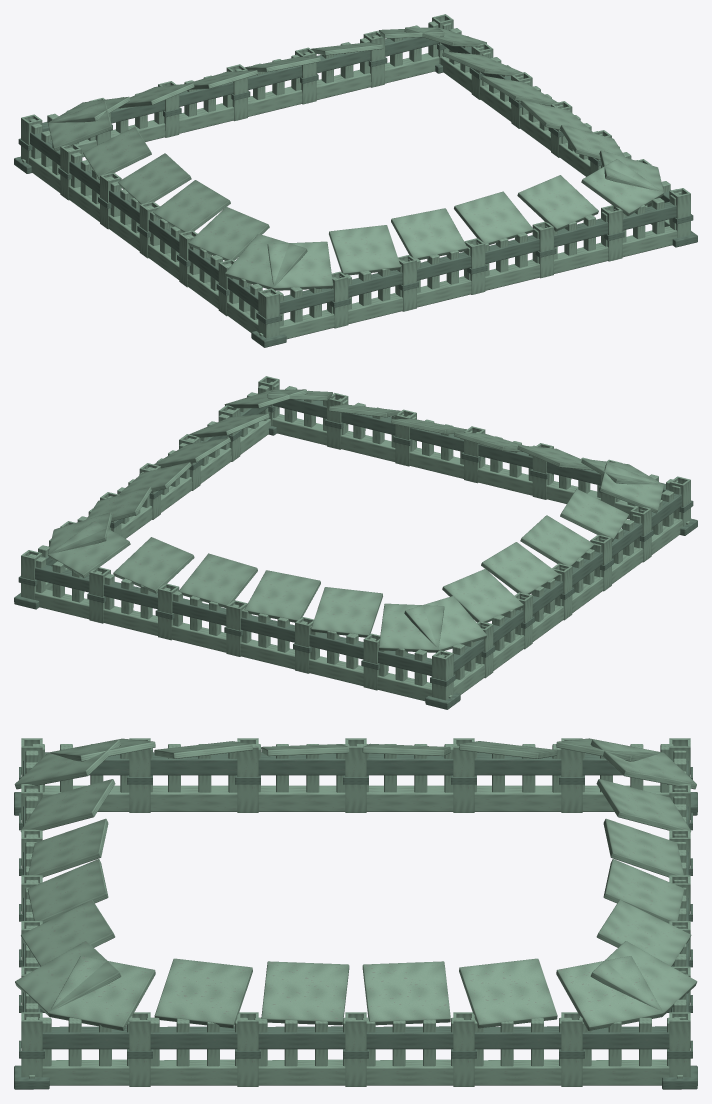
3 views of the same model, one above another, from view 1: azimuth 30°, elevation 25°; view 2: azimuth 150°, elevation 25°; view 3: azimuth 270°, elevation 25° (orthographic). The views are drawn at different scales.
Visible parts, largest first — view 1: Crown alloy petal 0-1, Crown alloy petal 0-2, Crown alloy petal 0-3, Crown alloy petal 0-4, Crown alloy petal 3-4, Crown alloy petal 0-0, Crown alloy petal 3-3, Crown alloy petal 3-5, Crown alloy petal 0-5, Crown alloy petal 3-2, Crown alloy petal 3-1, Crown alloy petal 3-0 (+58 smaller); view 2: Crown alloy petal 2-4, Crown alloy petal 2-3, Crown alloy petal 2-2, Crown alloy petal 2-1, Crown alloy petal 3-1, Crown alloy petal 2-5, Crown alloy petal 3-2, Crown alloy petal 3-0, Crown alloy petal 2-0, Crown alloy petal 3-3, Crown alloy petal 3-4, Crown alloy petal 3-5 (+58 smaller); view 3: Crown alloy petal 1-4, Crown alloy petal 1-1, Crown alloy petal 1-2, Crown alloy petal 1-3, Crown alloy petal 1-5, Crown alloy petal 1-0, Crown alloy petal 0-5, Crown alloy petal 2-0, Crown alloy petal 0-4, Crown alloy petal 2-1, Crown alloy petal 0-3, Crown alloy petal 2-2 (+50 smaller).
Boxes of the visible parts, left/top/right/bottom form: Crown alloy petal 0-1: left=329, top=225, right=400, bottom=275; Crown alloy petal 0-2: left=391, top=208, right=467, bottom=259; Crown alloy petal 0-3: left=454, top=191, right=533, bottom=244; Crown alloy petal 0-4: left=517, top=175, right=598, bottom=231; Crown alloy petal 3-4: left=188, top=207, right=269, bottom=260; Crown alloy petal 0-0: left=267, top=241, right=333, bottom=290; Crown alloy petal 3-3: left=153, top=180, right=230, bottom=232; Crown alloy petal 3-5: left=225, top=234, right=307, bottom=288; Crown alloy petal 0-5: left=581, top=159, right=663, bottom=216; Crown alloy petal 3-2: left=118, top=153, right=191, bottom=204; Crown alloy petal 3-1: left=83, top=127, right=151, bottom=179; Crown alloy petal 3-0: left=48, top=101, right=112, bottom=151; Crown alloy petal 2-4: left=311, top=587, right=382, bottom=637; Crown alloy petal 2-3: left=244, top=570, right=320, bottom=622; Crown alloy petal 2-2: left=178, top=553, right=257, bottom=607; Crown alloy petal 2-1: left=113, top=537, right=194, bottom=593; Crown alloy petal 3-1: left=442, top=569, right=523, bottom=622; Crown alloy petal 2-5: left=379, top=603, right=444, bottom=652; Crown alloy petal 3-2: left=481, top=542, right=559, bottom=594; Crown alloy petal 3-0: left=404, top=596, right=486, bottom=650; Crown alloy petal 2-0: left=48, top=521, right=130, bottom=577; Crown alloy petal 3-3: left=520, top=515, right=594, bottom=566; Crown alloy petal 3-4: left=560, top=489, right=628, bottom=541; Crown alloy petal 3-5: left=599, top=463, right=663, bottom=513; Crown alloy petal 1-4: left=459, top=958, right=557, bottom=1028; Crown alloy petal 1-1: left=154, top=958, right=252, bottom=1028; Crown alloy petal 1-2: left=261, top=961, right=349, bottom=1025; Crown alloy petal 1-3: left=362, top=961, right=450, bottom=1025; Crown alloy petal 1-5: left=556, top=956, right=663, bottom=1030; Crown alloy petal 1-0: left=48, top=956, right=155, bottom=1030; Crown alloy petal 0-5: left=15, top=941, right=121, bottom=1016; Crown alloy petal 2-0: left=590, top=941, right=697, bottom=1016; Crown alloy petal 0-4: left=21, top=900, right=115, bottom=966; Crown alloy petal 2-1: left=596, top=900, right=691, bottom=966; Crown alloy petal 0-3: left=27, top=859, right=108, bottom=923; Crown alloy petal 2-2: left=603, top=859, right=684, bottom=923.
Bounding box in the file's own units: 2.85 × 0.4127 × 2.85.
Materials: 2 (2 with a texture image).
